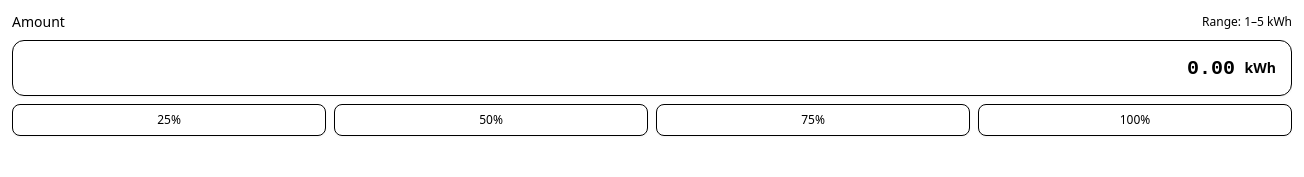
Scenario: AmountInput › typed input — all value cases › forwards leading-dot decimal (normalized) verbatim
Type ".5" into the number field with test id "order-amount-input". click: (652, 68)
box: [12,40,1292,96]
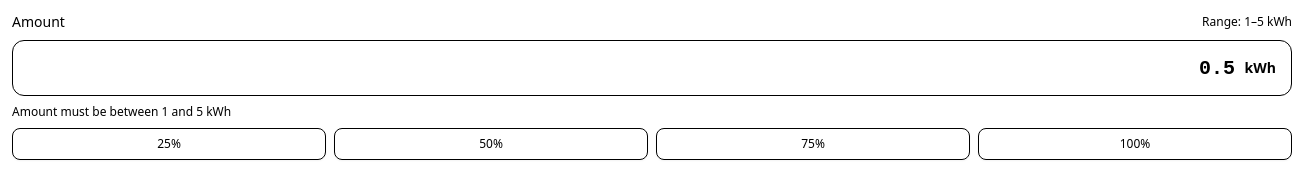
Check: the number field with test id "order-amount-input" holds "0.5", box [12,40,1292,96]
